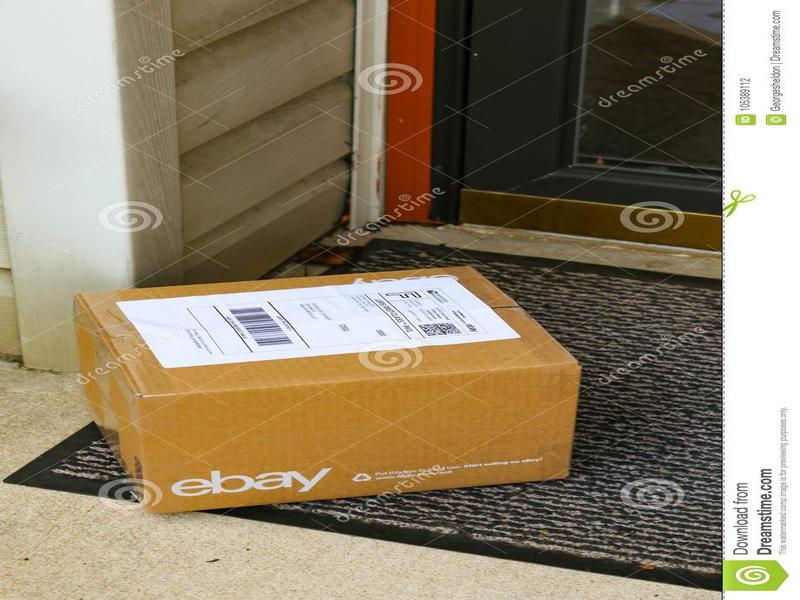package: (60, 248, 590, 521)
